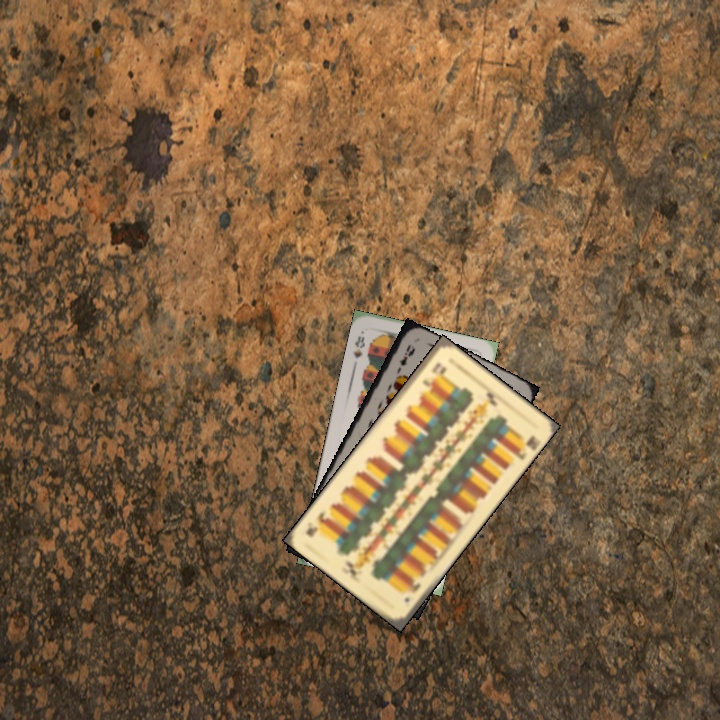E10: (419, 358, 447, 389), (400, 575, 423, 605)
E9: (392, 340, 417, 378)
S8: (349, 332, 367, 361)
